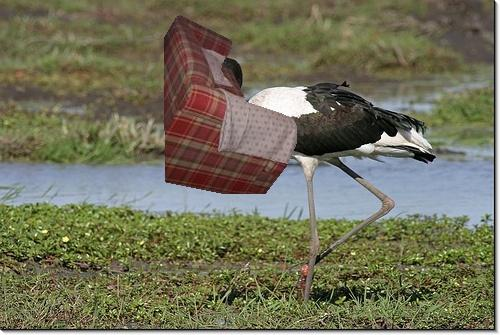tampered: (165, 16, 297, 194)
